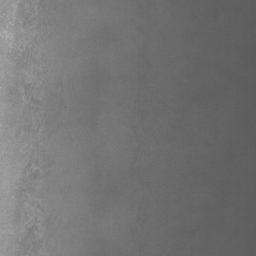Silk spot: (8, 36, 43, 69), (13, 179, 34, 224), (17, 224, 43, 256), (18, 0, 32, 28), (23, 156, 38, 180), (24, 83, 39, 104), (8, 88, 20, 107), (15, 124, 32, 137)
